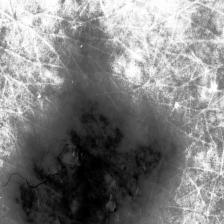Benign Marking or Mole: (10, 92, 177, 224)
